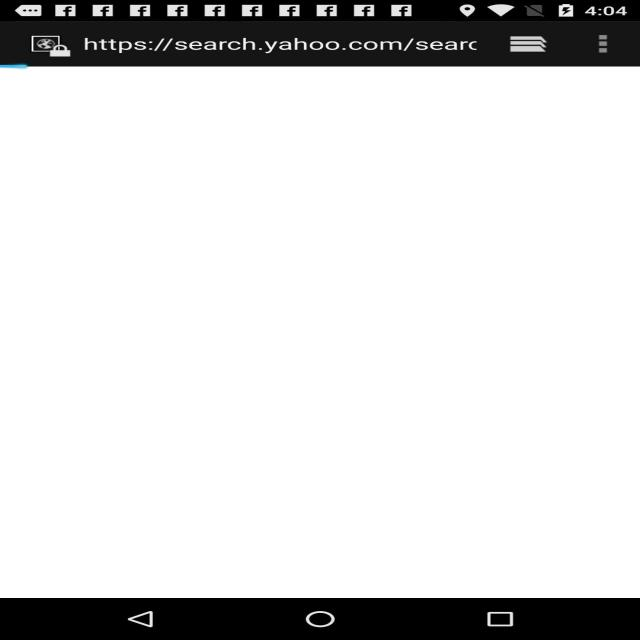button: (571, 34, 628, 59), (473, 608, 528, 626), (294, 610, 333, 626), (122, 614, 170, 626)
icon: (22, 3, 409, 23), (456, 3, 578, 16), (17, 39, 110, 54)
text: (88, 38, 502, 52), (582, 7, 620, 19)
